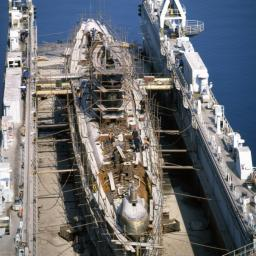submarine: (68, 20, 178, 256)
